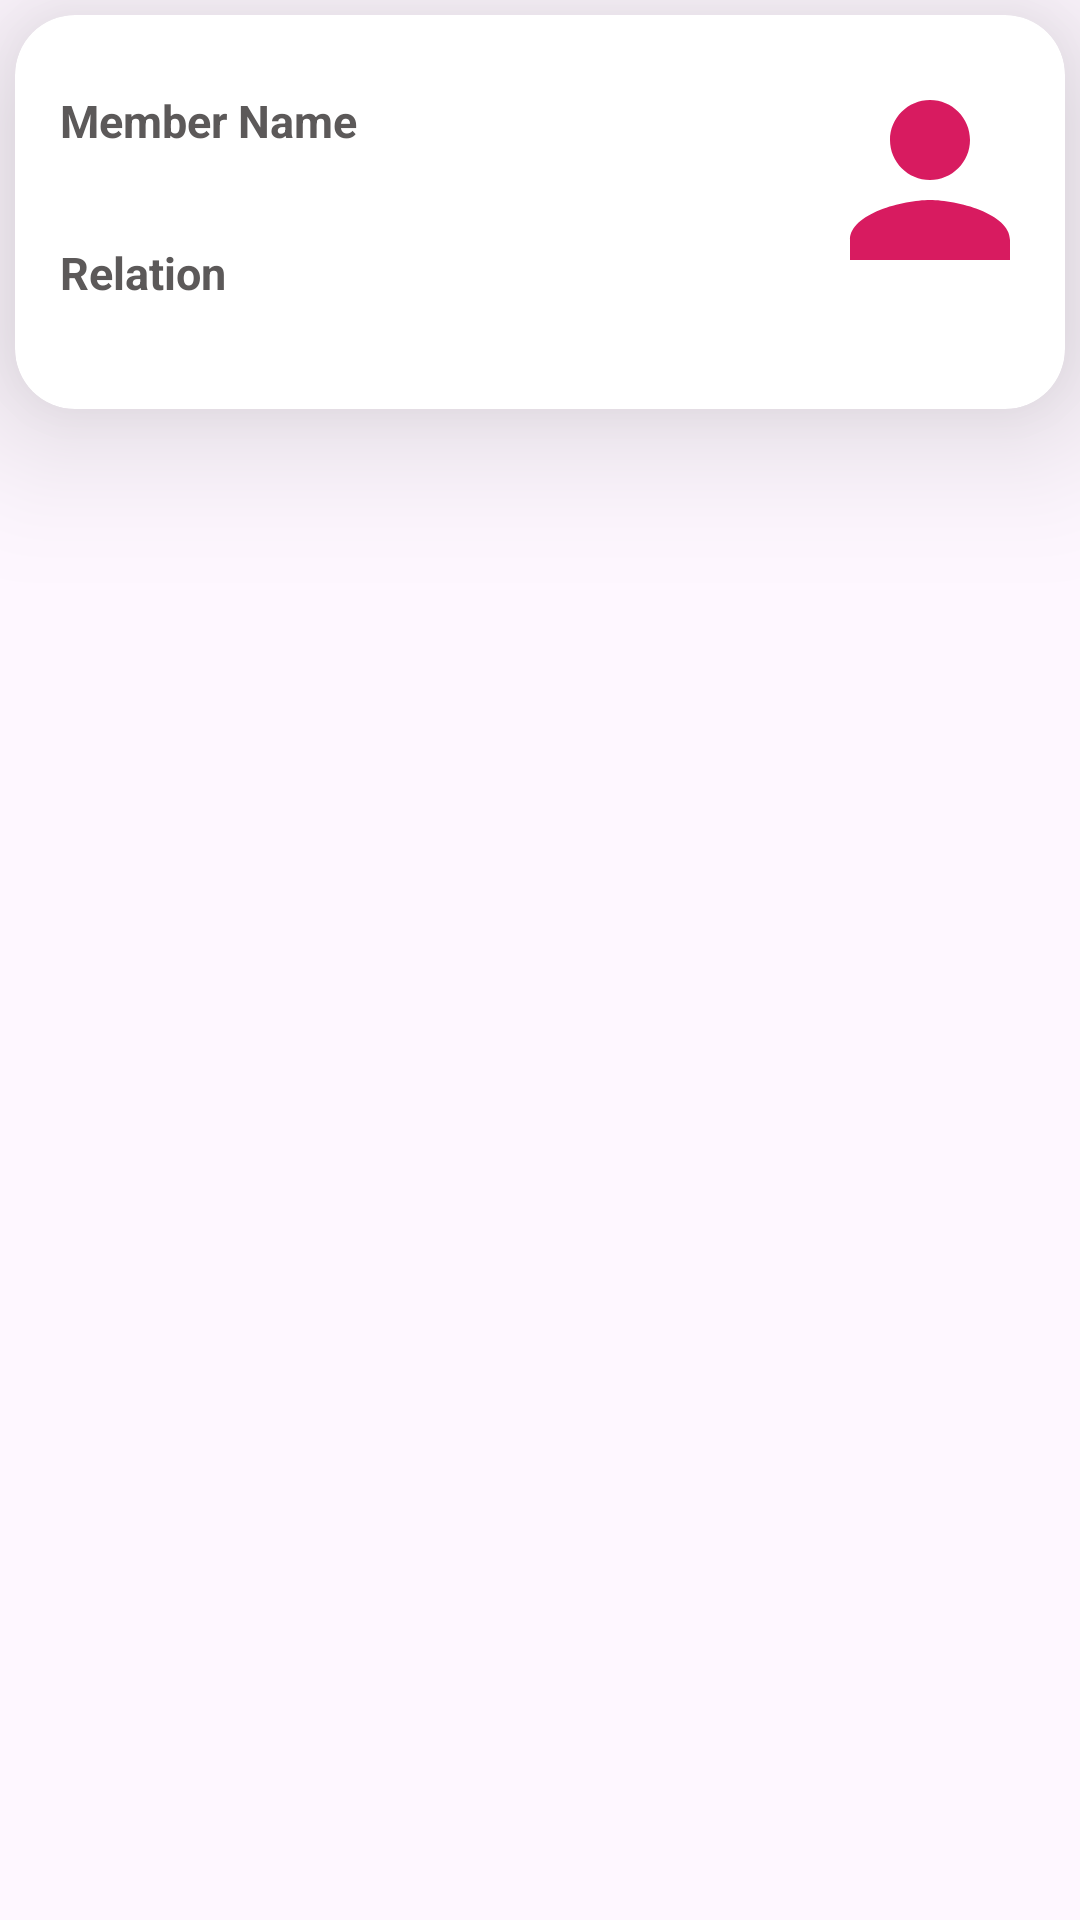

Icons on this 1080*1920 Android screen, each with the point to tap as (x,y):
person: (930,180)
